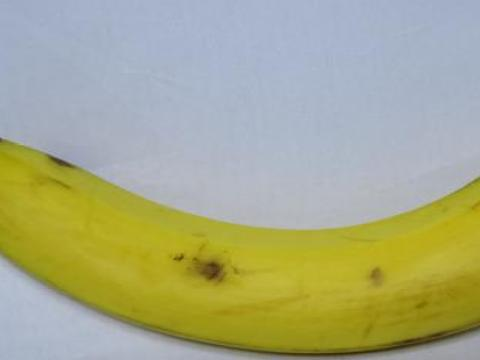freshripe: (0, 112, 479, 359)
